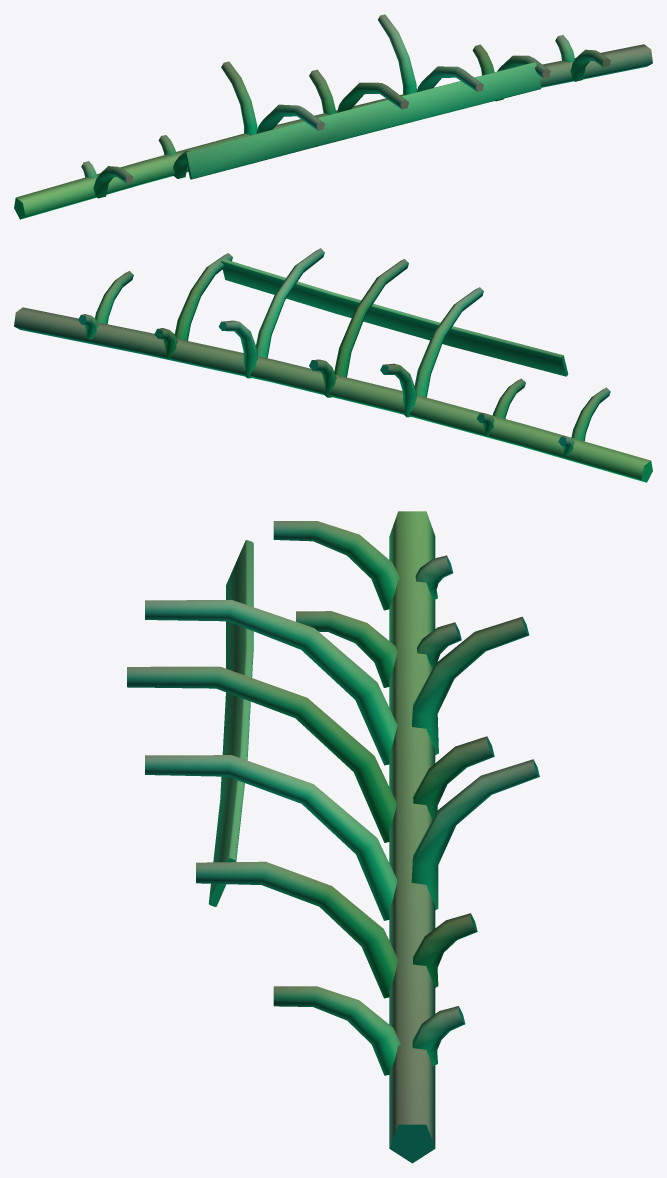
Rendered from wreck_ribs_large.glb.
3 renders of one model, top to bottom at view 1: azimuth 30°, elevation 25°; view 2: azimuth 150°, elevation 25°; view 3: azimuth 270°, elevation 25°, orthographic. The views are drawn at different scales.
Parts seen in each view (by area): view 1: wreck_ribs_large; view 2: wreck_ribs_large; view 3: wreck_ribs_large.
Part boxes in pixels (box(x1,y1,x2,y2)): wreck_ribs_large: box(14, 14, 652, 219); wreck_ribs_large: box(14, 248, 652, 482); wreck_ribs_large: box(127, 511, 539, 1163).
Size of what is drawn, in the model's own units: 6.73 by 0.9776 by 1.91.
